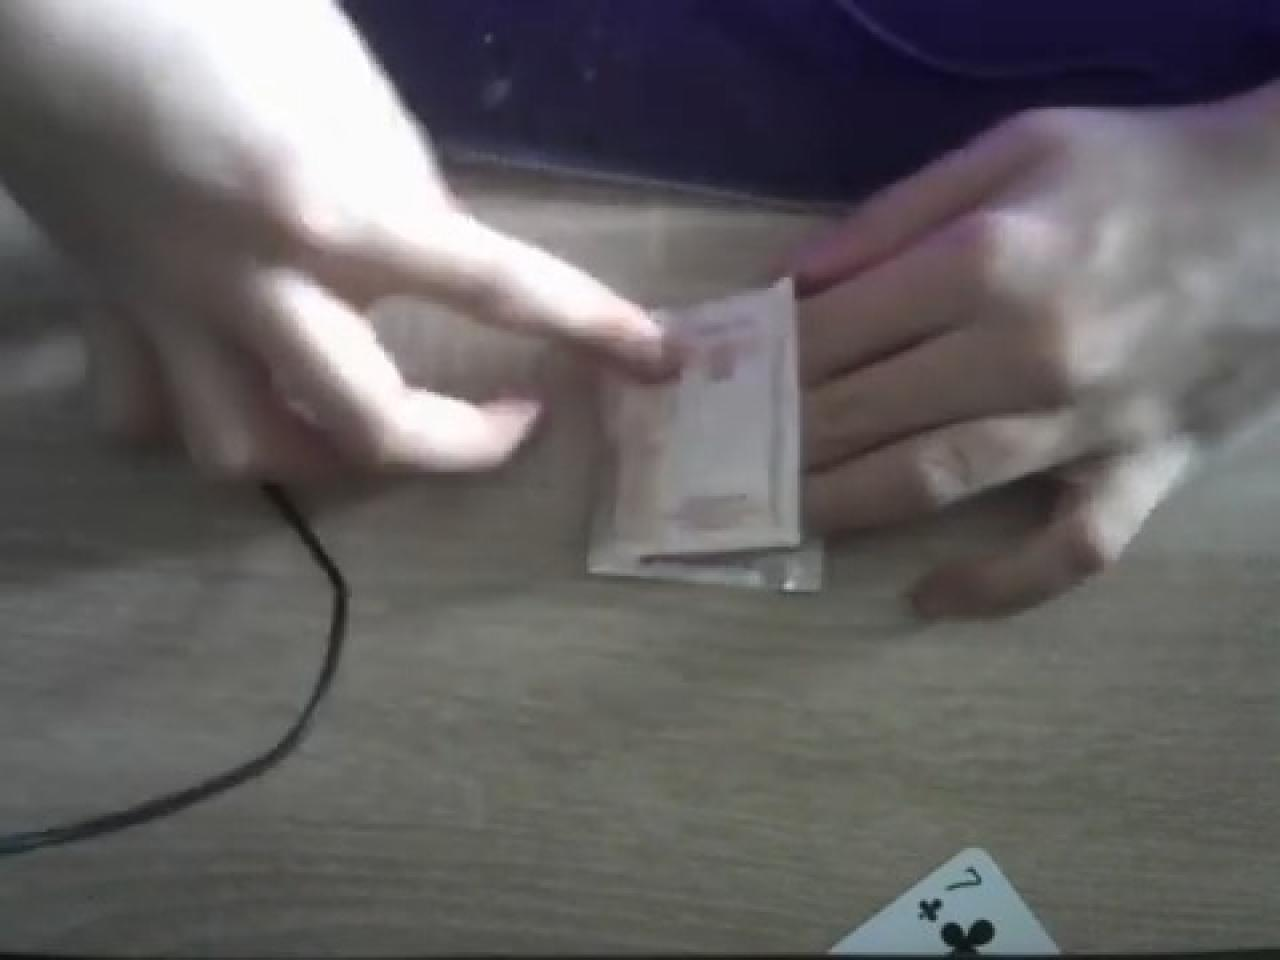5leva: (595, 280, 818, 589)
